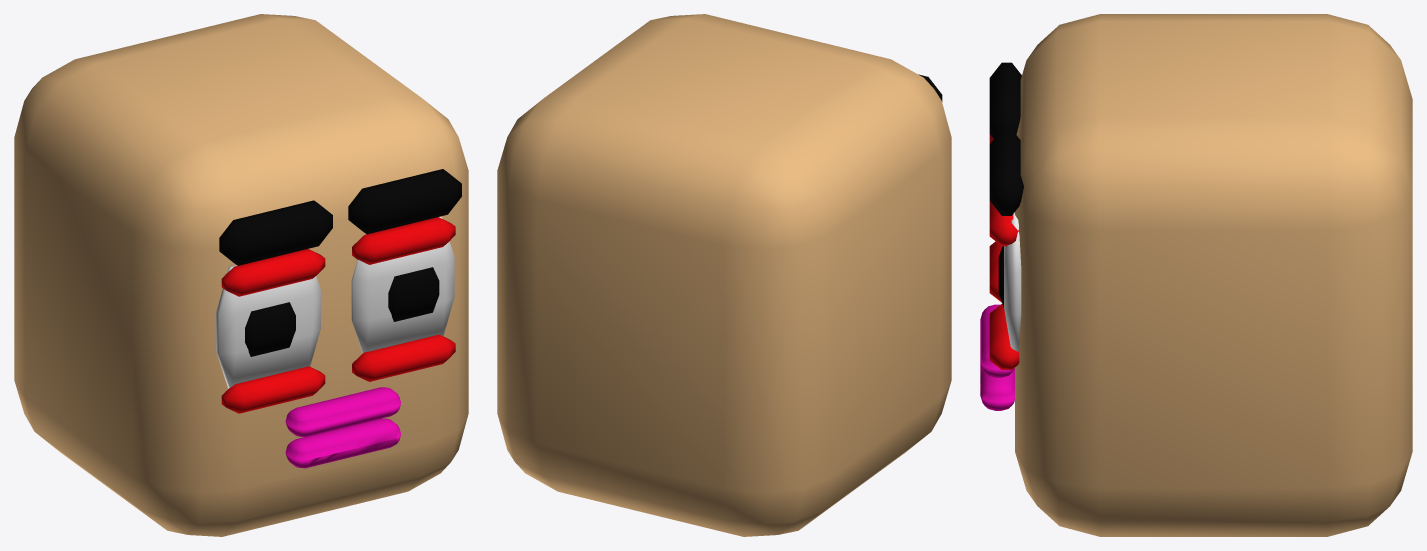
File: robot_head5.glb
The picture shows the model from 3 angles, left to right: view 1: azimuth 30°, elevation 25°; view 2: azimuth 150°, elevation 25°; view 3: azimuth 270°, elevation 25°; orthographic projection. The views are drawn at different scales.
Visible parts, largest first — view 1: robot_head; view 2: robot_head; view 3: robot_head.
Boxes of the visible parts, x1,y1,x2,y2 form: robot_head: (14,14,468,536); robot_head: (497,14,951,536); robot_head: (980,14,1412,536).
Size of the model in its own units: 0.7 by 0.8 by 0.761.
